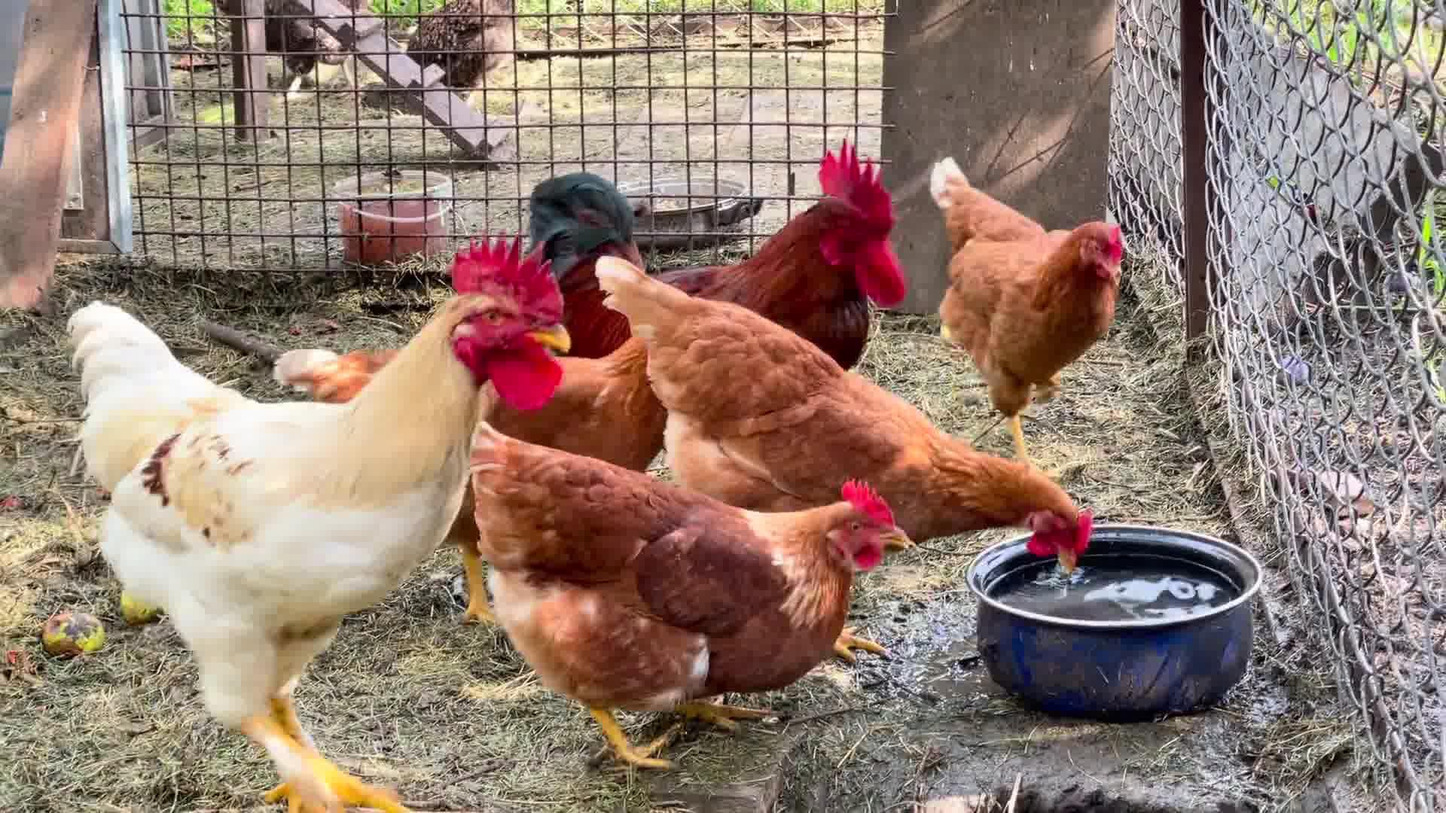Normal: (85, 239, 570, 807), (595, 249, 1099, 578), (465, 416, 903, 750), (275, 330, 694, 618), (516, 142, 915, 399), (927, 153, 1140, 440)
